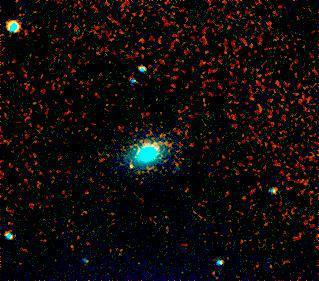star: (117, 151, 147, 181)
